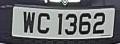1: (53, 11, 66, 37)
2: (92, 11, 107, 36)
3: (64, 12, 78, 37)
6: (78, 12, 93, 36)
C: (36, 10, 52, 38)
W: (22, 10, 36, 37)
